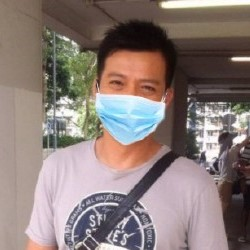mask: (89, 81, 173, 150)
